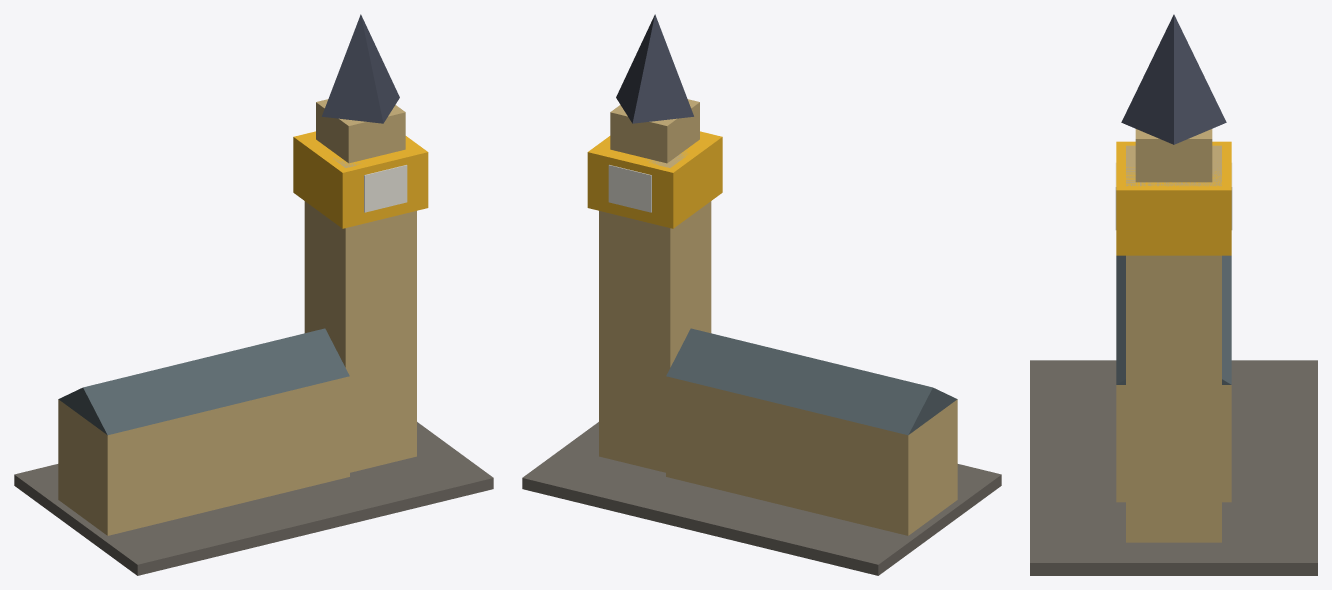
Rendered from big_ben.glb.
3 renders of one model, left to right at view 1: azimuth 30°, elevation 25°; view 2: azimuth 150°, elevation 25°; view 3: azimuth 270°, elevation 25°, orthographic. The views are drawn at different scales.
Parts seen in each view (by area): view 1: big_ben; view 2: big_ben; view 3: big_ben.
Boxes of the visible parts, <box> form: big_ben: <box>14,14,493,575</box>; big_ben: <box>522,14,1001,575</box>; big_ben: <box>1030,14,1317,575</box>.
Size of the model in its own units: 1 by 1.2 by 0.6.
